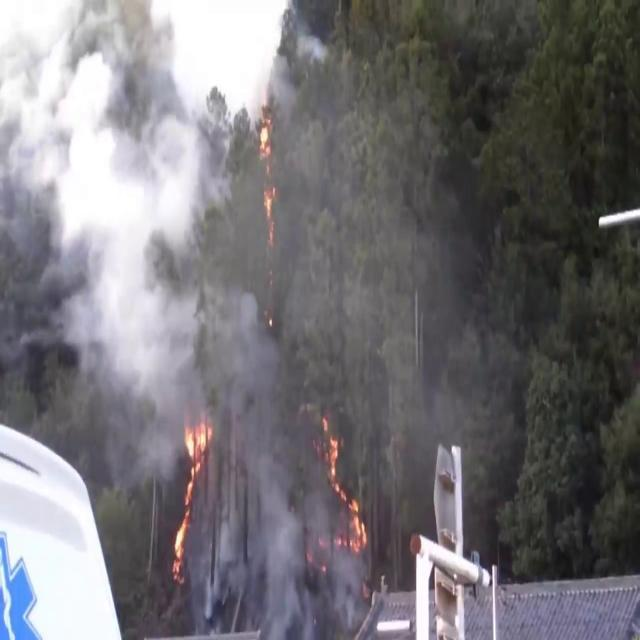Fire: (170, 411, 214, 578), (316, 424, 368, 560)
Smoke: (0, 0, 228, 471), (202, 289, 310, 634)
